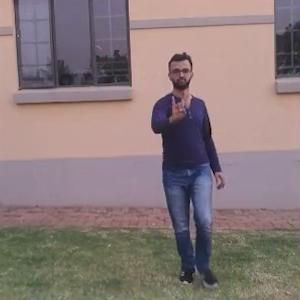takeoff-hand: (164, 85, 189, 123)
